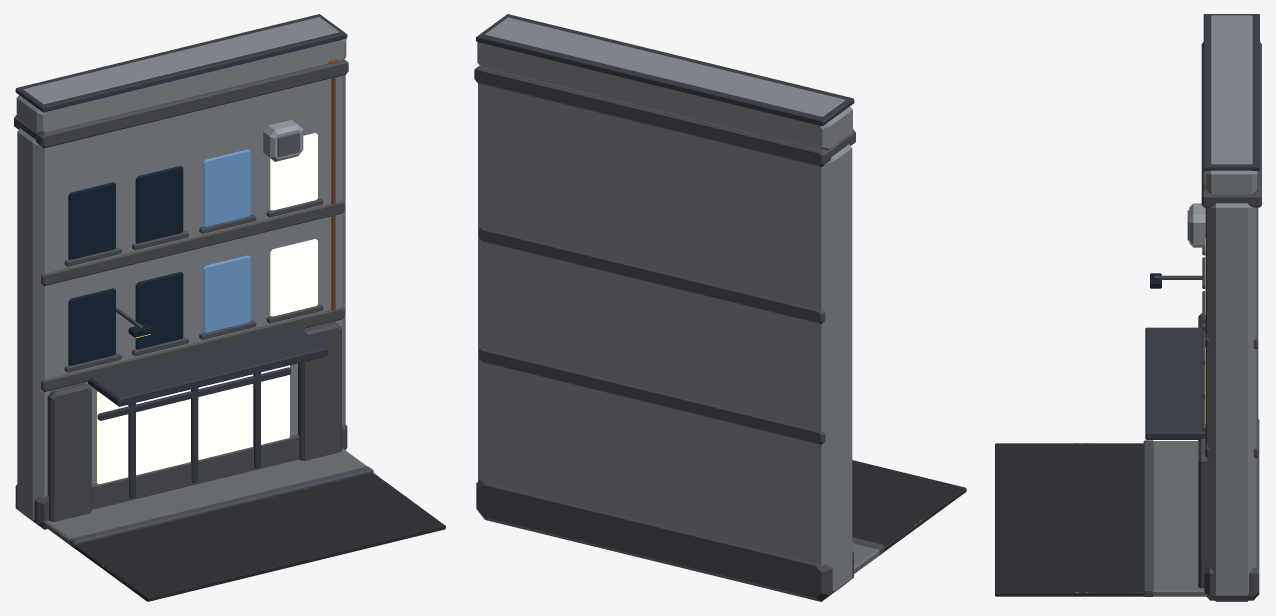
The model's file is spire_wall_boundary_v1.glb.
3 renders of one model, left to right at view 1: azimuth 30°, elevation 25°; view 2: azimuth 150°, elevation 25°; view 3: azimuth 270°, elevation 25°, orthographic. The views are drawn at different scales.
Parts seen in each view (by area): view 1: block_body, street_asphalt, block_parapet, lobby_glass, lobby_canopy, street_pavement, lobby_pier, block_plinth, block_cornice, lobby_pier_b, block_coping, block_band1 (+16 smaller); view 2: block_body, block_parapet, block_plinth, block_cornice, street_asphalt, block_coping, block_band0, block_band1; view 3: street_asphalt, block_body, block_parapet, street_pavement, lobby_canopy, block_coping, street_kerb, block_cornice, block_plinth, lobby_pier_b, block_ac, block_band1 (+2 smaller).
Boxes of the visible parts, x1,y1,x2,y2 form: block_body: (17, 75, 345, 520); street_asphalt: (74, 472, 445, 601); block_parapet: (16, 17, 346, 133); lobby_glass: (97, 365, 289, 484); lobby_canopy: (88, 327, 328, 406); street_pavement: (44, 449, 367, 544); lobby_pier: (47, 382, 91, 521); block_plinth: (15, 423, 347, 529); block_cornice: (14, 59, 348, 148); lobby_pier_b: (298, 322, 341, 460); block_coping: (15, 14, 347, 112); block_band1: (41, 201, 344, 285); block_body: (478, 83, 852, 591); block_parapet: (477, 17, 852, 150); block_plinth: (476, 480, 853, 601); block_cornice: (474, 65, 855, 166); street_asphalt: (852, 460, 966, 551); block_coping: (476, 14, 854, 126); block_band0: (479, 348, 825, 444); block_band1: (479, 227, 825, 323); street_asphalt: (995, 443, 1144, 596); block_body: (1207, 203, 1256, 601); block_parapet: (1206, 15, 1257, 195); street_pavement: (1153, 441, 1206, 596); lobby_canopy: (1145, 327, 1205, 439); block_coping: (1203, 14, 1259, 170); street_kerb: (1143, 440, 1153, 596); block_cornice: (1201, 42, 1261, 207); block_plinth: (1204, 419, 1259, 600); lobby_pier_b: (1198, 438, 1206, 588); block_ac: (1189, 203, 1205, 247); block_band1: (1205, 207, 1258, 349).
Bounding box in the file's own units: 10.5 × 13.75 × 7.55.
